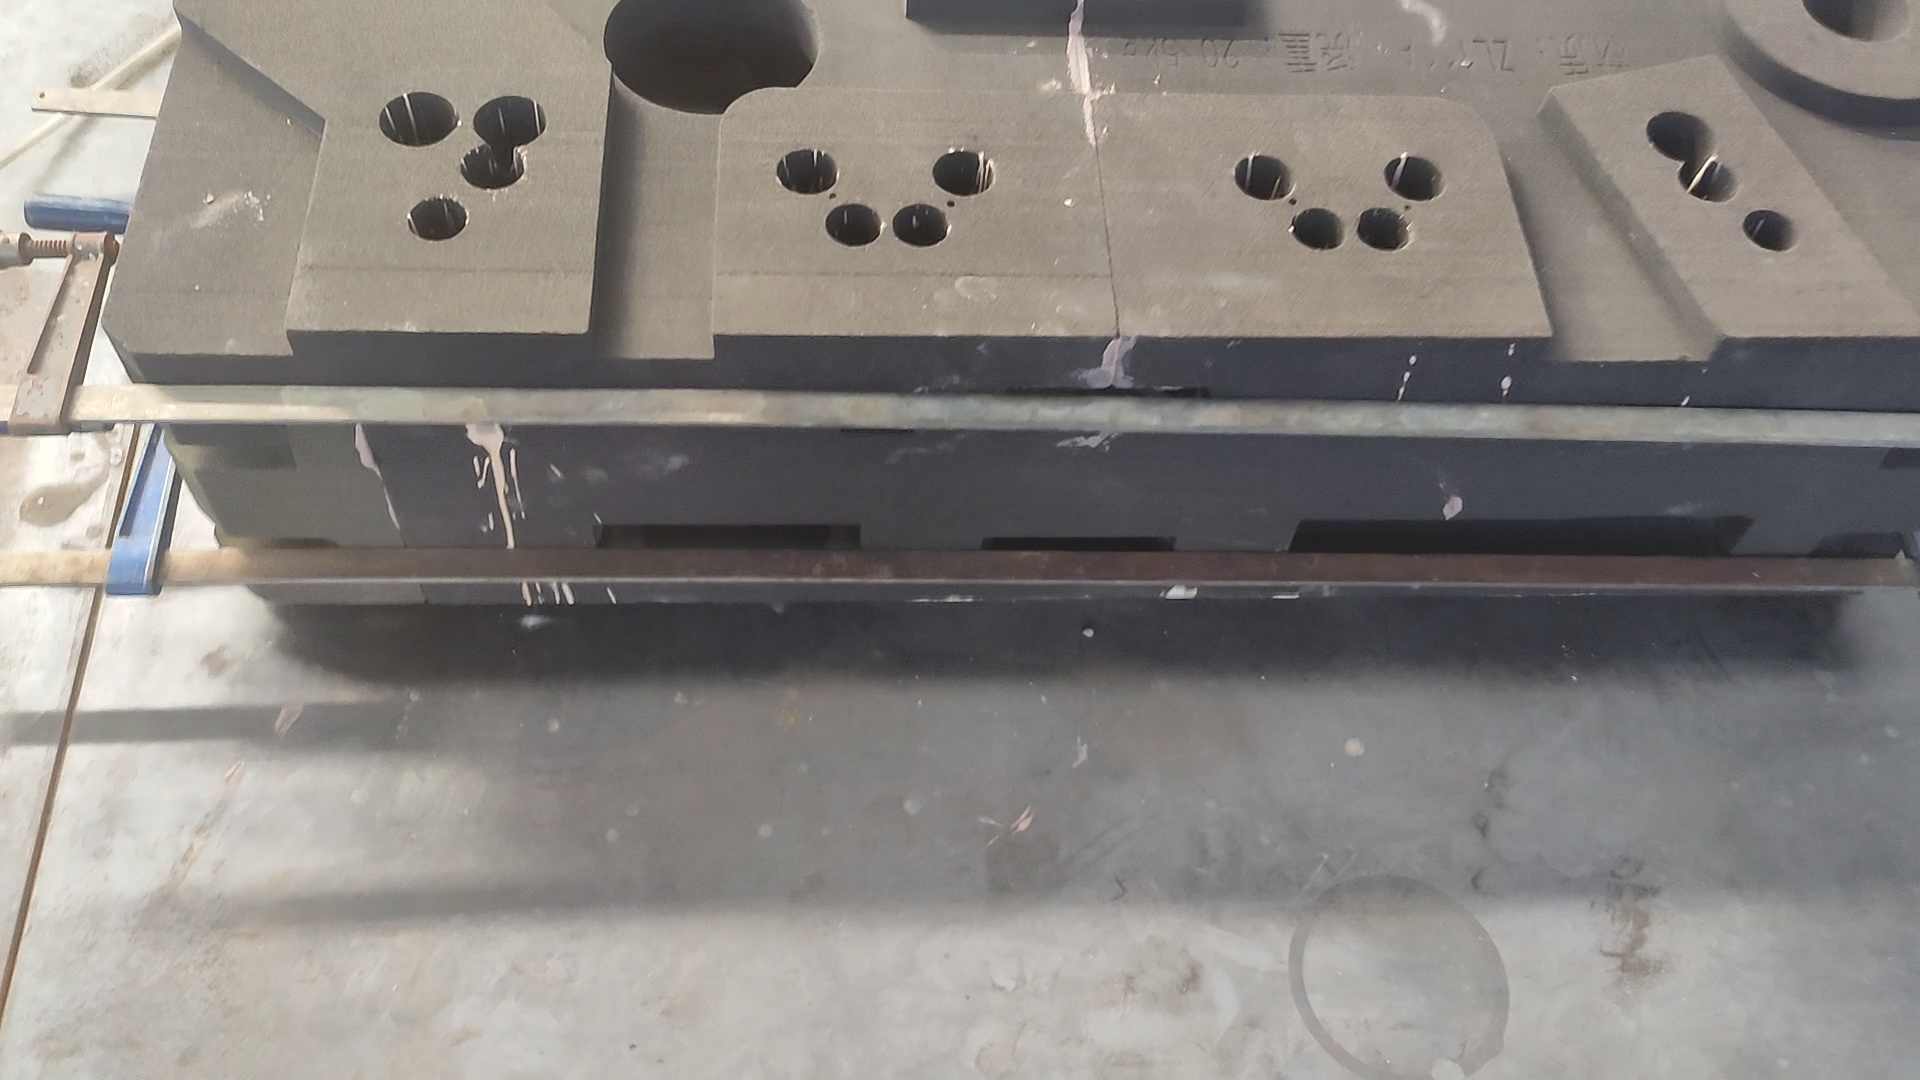pouring hole: (1803, 1, 1915, 40)
